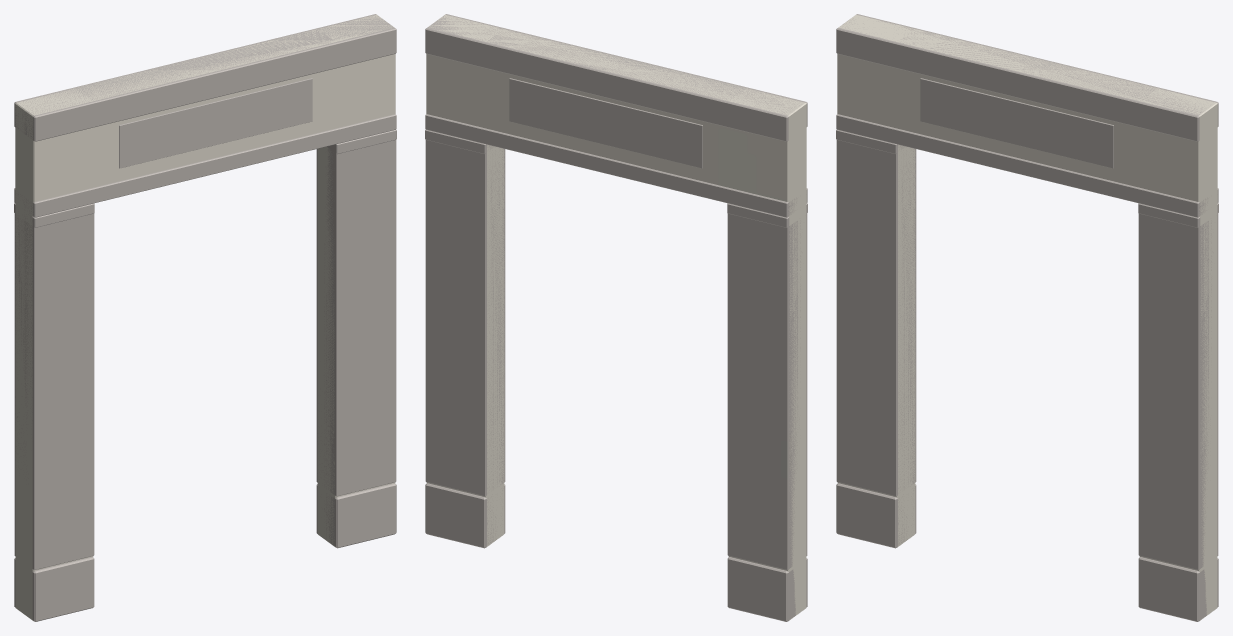
The model's file is desktop.glb.
The picture shows the model from 3 angles, left to right: view 1: azimuth 30°, elevation 25°; view 2: azimuth 150°, elevation 25°; view 3: azimuth 330°, elevation 25°; orthographic projection.
Bounding box in the file's own units: 3 × 4 × 0.308.
Materials: 1 (1 with a texture image).
